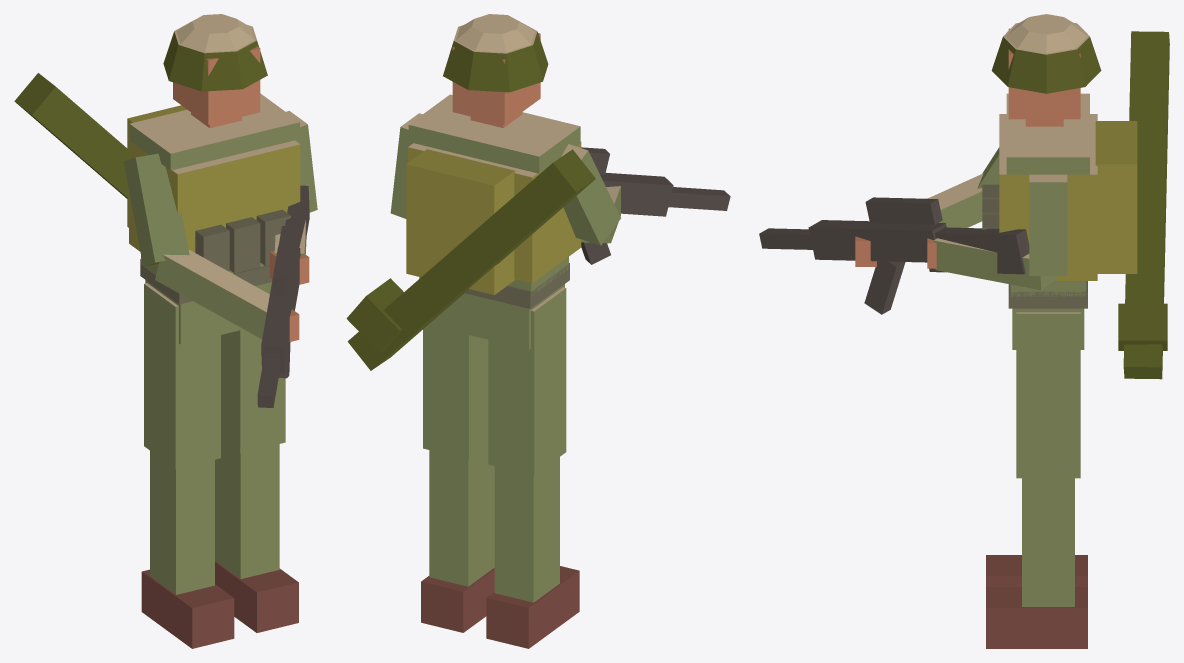
Rendered from SM_SoldadoArmado_v6_G36E_C90_Reposo_LOD1.fbx.
3 views of the same model, side by side, from view 1: azimuth 30°, elevation 25°; view 2: azimuth 150°, elevation 25°; view 3: azimuth 270°, elevation 25° (orthographic).
Visible parts, largest first — view 1: SM_bloques.soldado_armado_v6_LOD1; view 2: SM_bloques.soldado_armado_v6_LOD1; view 3: SM_bloques.soldado_armado_v6_LOD1.
Boxes of the visible parts, left/top/right/bottom form: SM_bloques.soldado_armado_v6_LOD1: left=14, top=14, right=317, bottom=648; SM_bloques.soldado_armado_v6_LOD1: left=346, top=14, right=730, bottom=648; SM_bloques.soldado_armado_v6_LOD1: left=759, top=14, right=1169, bottom=648.
Bounding box in the file's own units: 0.7276 × 1.75 × 1.09.
